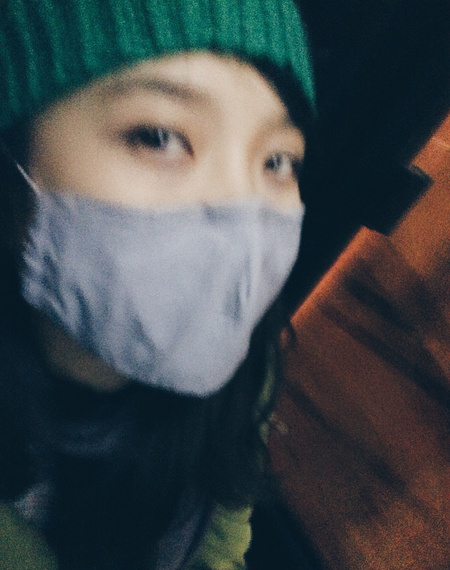face_mask: (43, 13, 316, 384)
